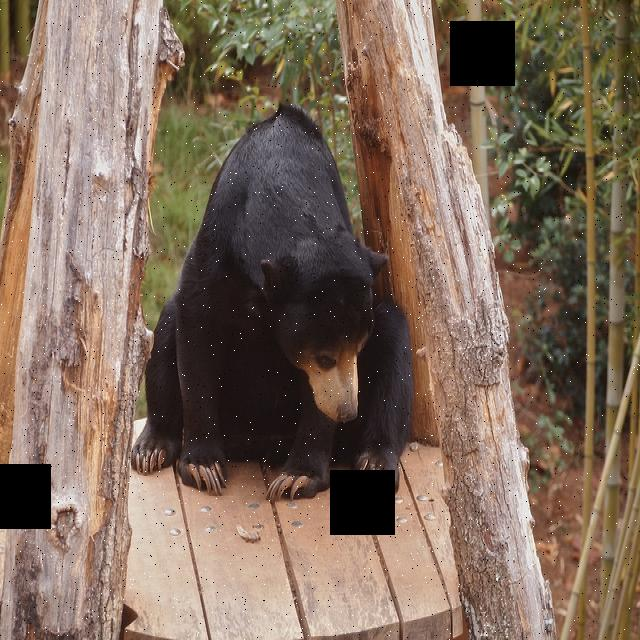Bear: (137, 94, 414, 508)
